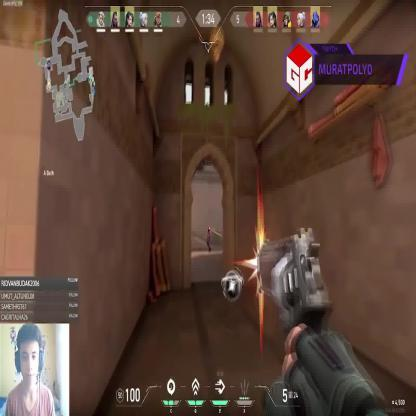enemy: (206, 225, 212, 251)
enemy_head: (208, 225, 210, 231)
